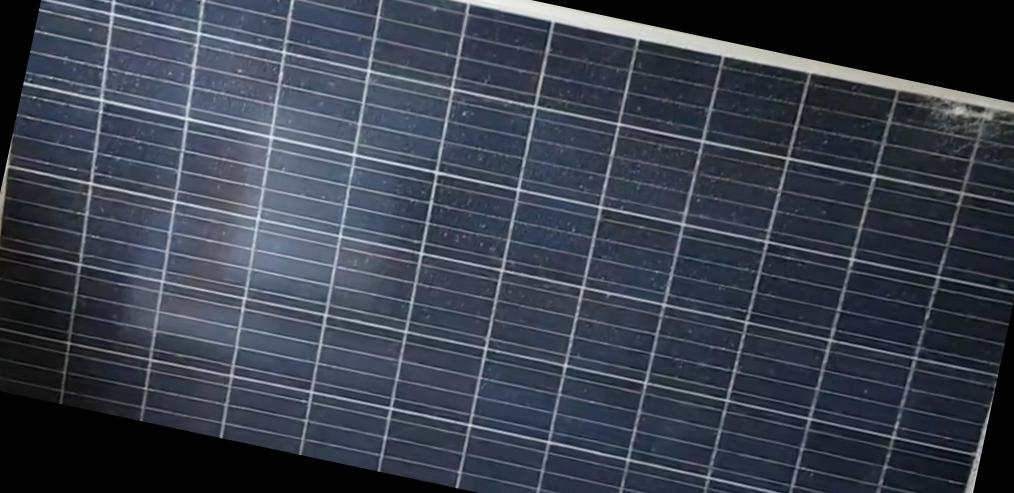Crack: (914, 90, 1013, 148)
